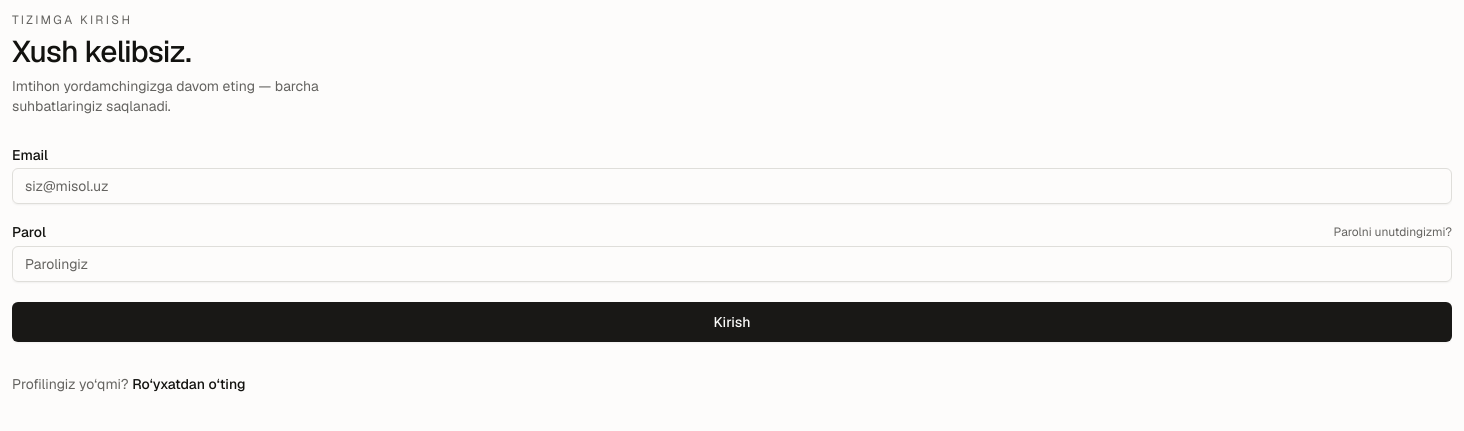
Test: SignInForm › shows a validation message for an invalid email on submit
Type "not-an-email" into the field labelled "Email".
click(732, 186); type("not-an-email")  # box [12,168,1452,204]
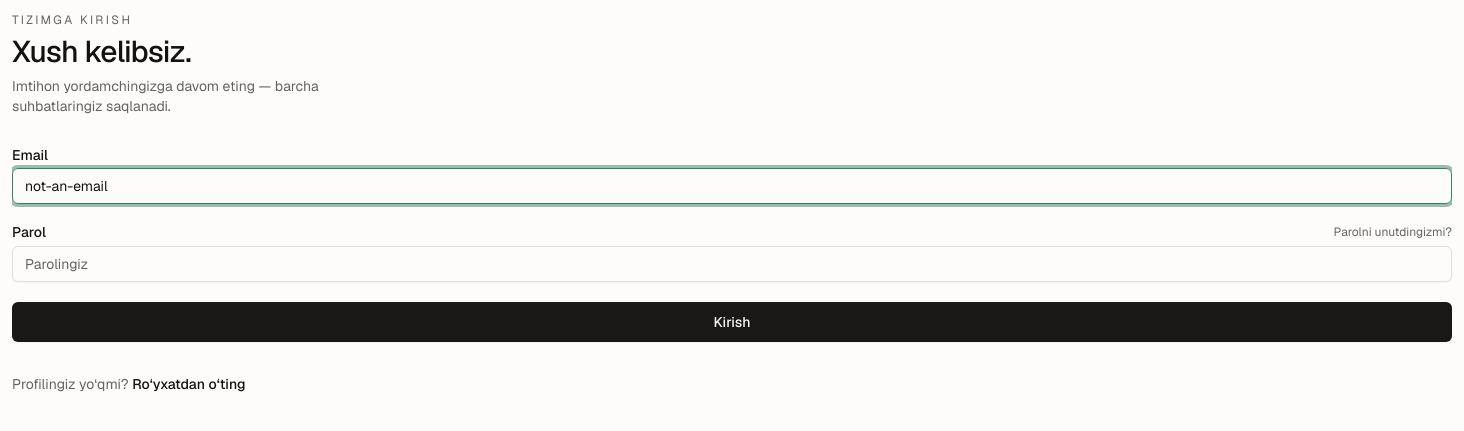
Type "longenough123" into the password field labelled "Parol".
click(732, 264); type("longenough123")  # box [12,246,1452,282]
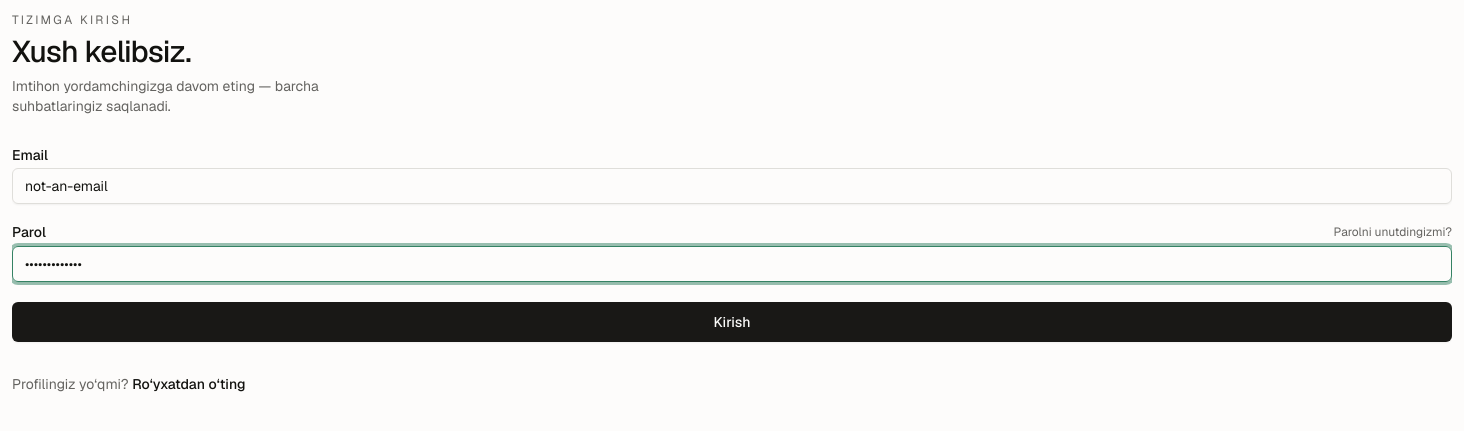
Click the button "Kirish".
click(732, 322)  # box [12,302,1452,342]
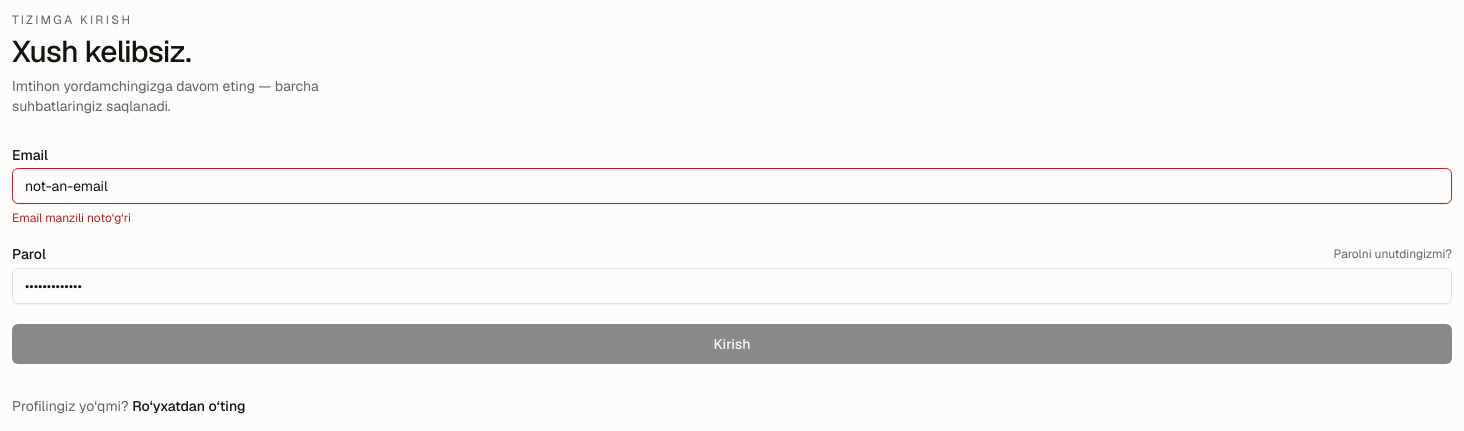
Expected: the message shows "noto", [12,210,131,226]
